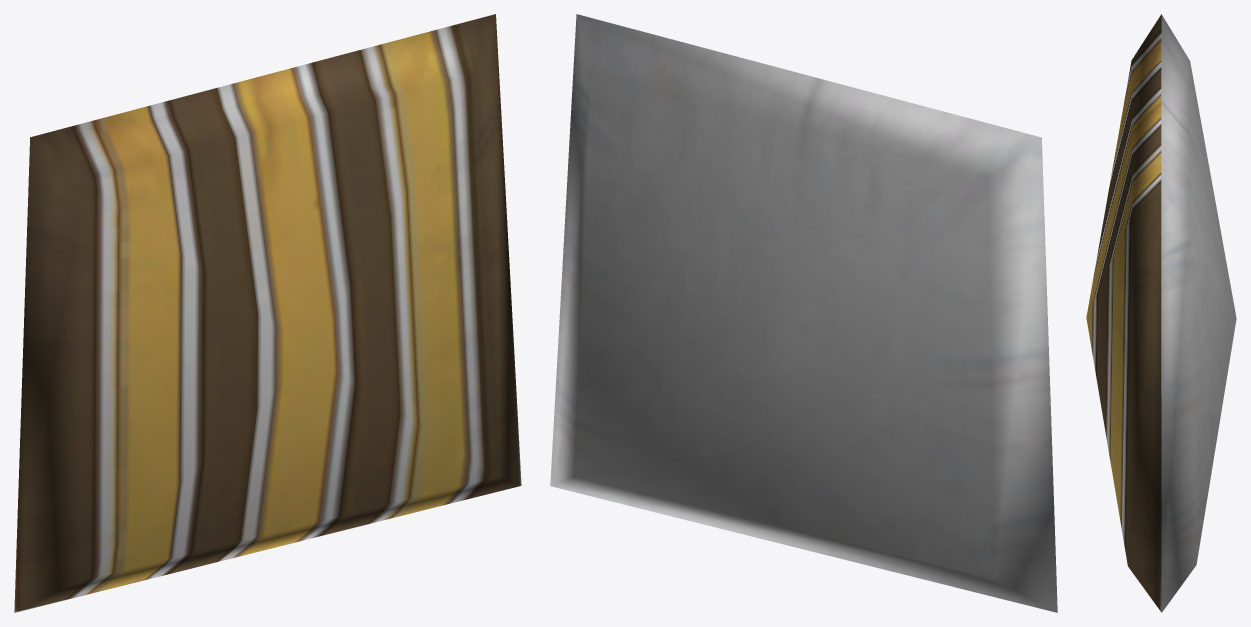
Rendered from p6_pillow_boat_01_lod3.glb.
3 renders of one model, left to right at view 1: azimuth 30°, elevation 25°; view 2: azimuth 150°, elevation 25°; view 3: azimuth 270°, elevation 25°, orthographic. The views are drawn at different scales.
Visible parts, largest first — view 1: surf0; view 2: surf0; view 3: surf0.
Part boxes in pixels (x1=…): surf0: x1=14, y1=14, x2=521, y2=612; surf0: x1=550, y1=14, x2=1057, y2=612; surf0: x1=1086, y1=14, x2=1236, y2=612.
Size of the model in its own units: 21.71 by 19.69 by 6.58.
